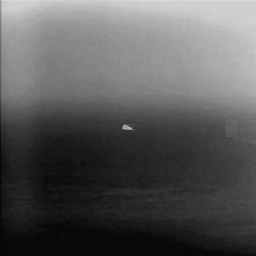Target: (121, 124, 135, 131)
